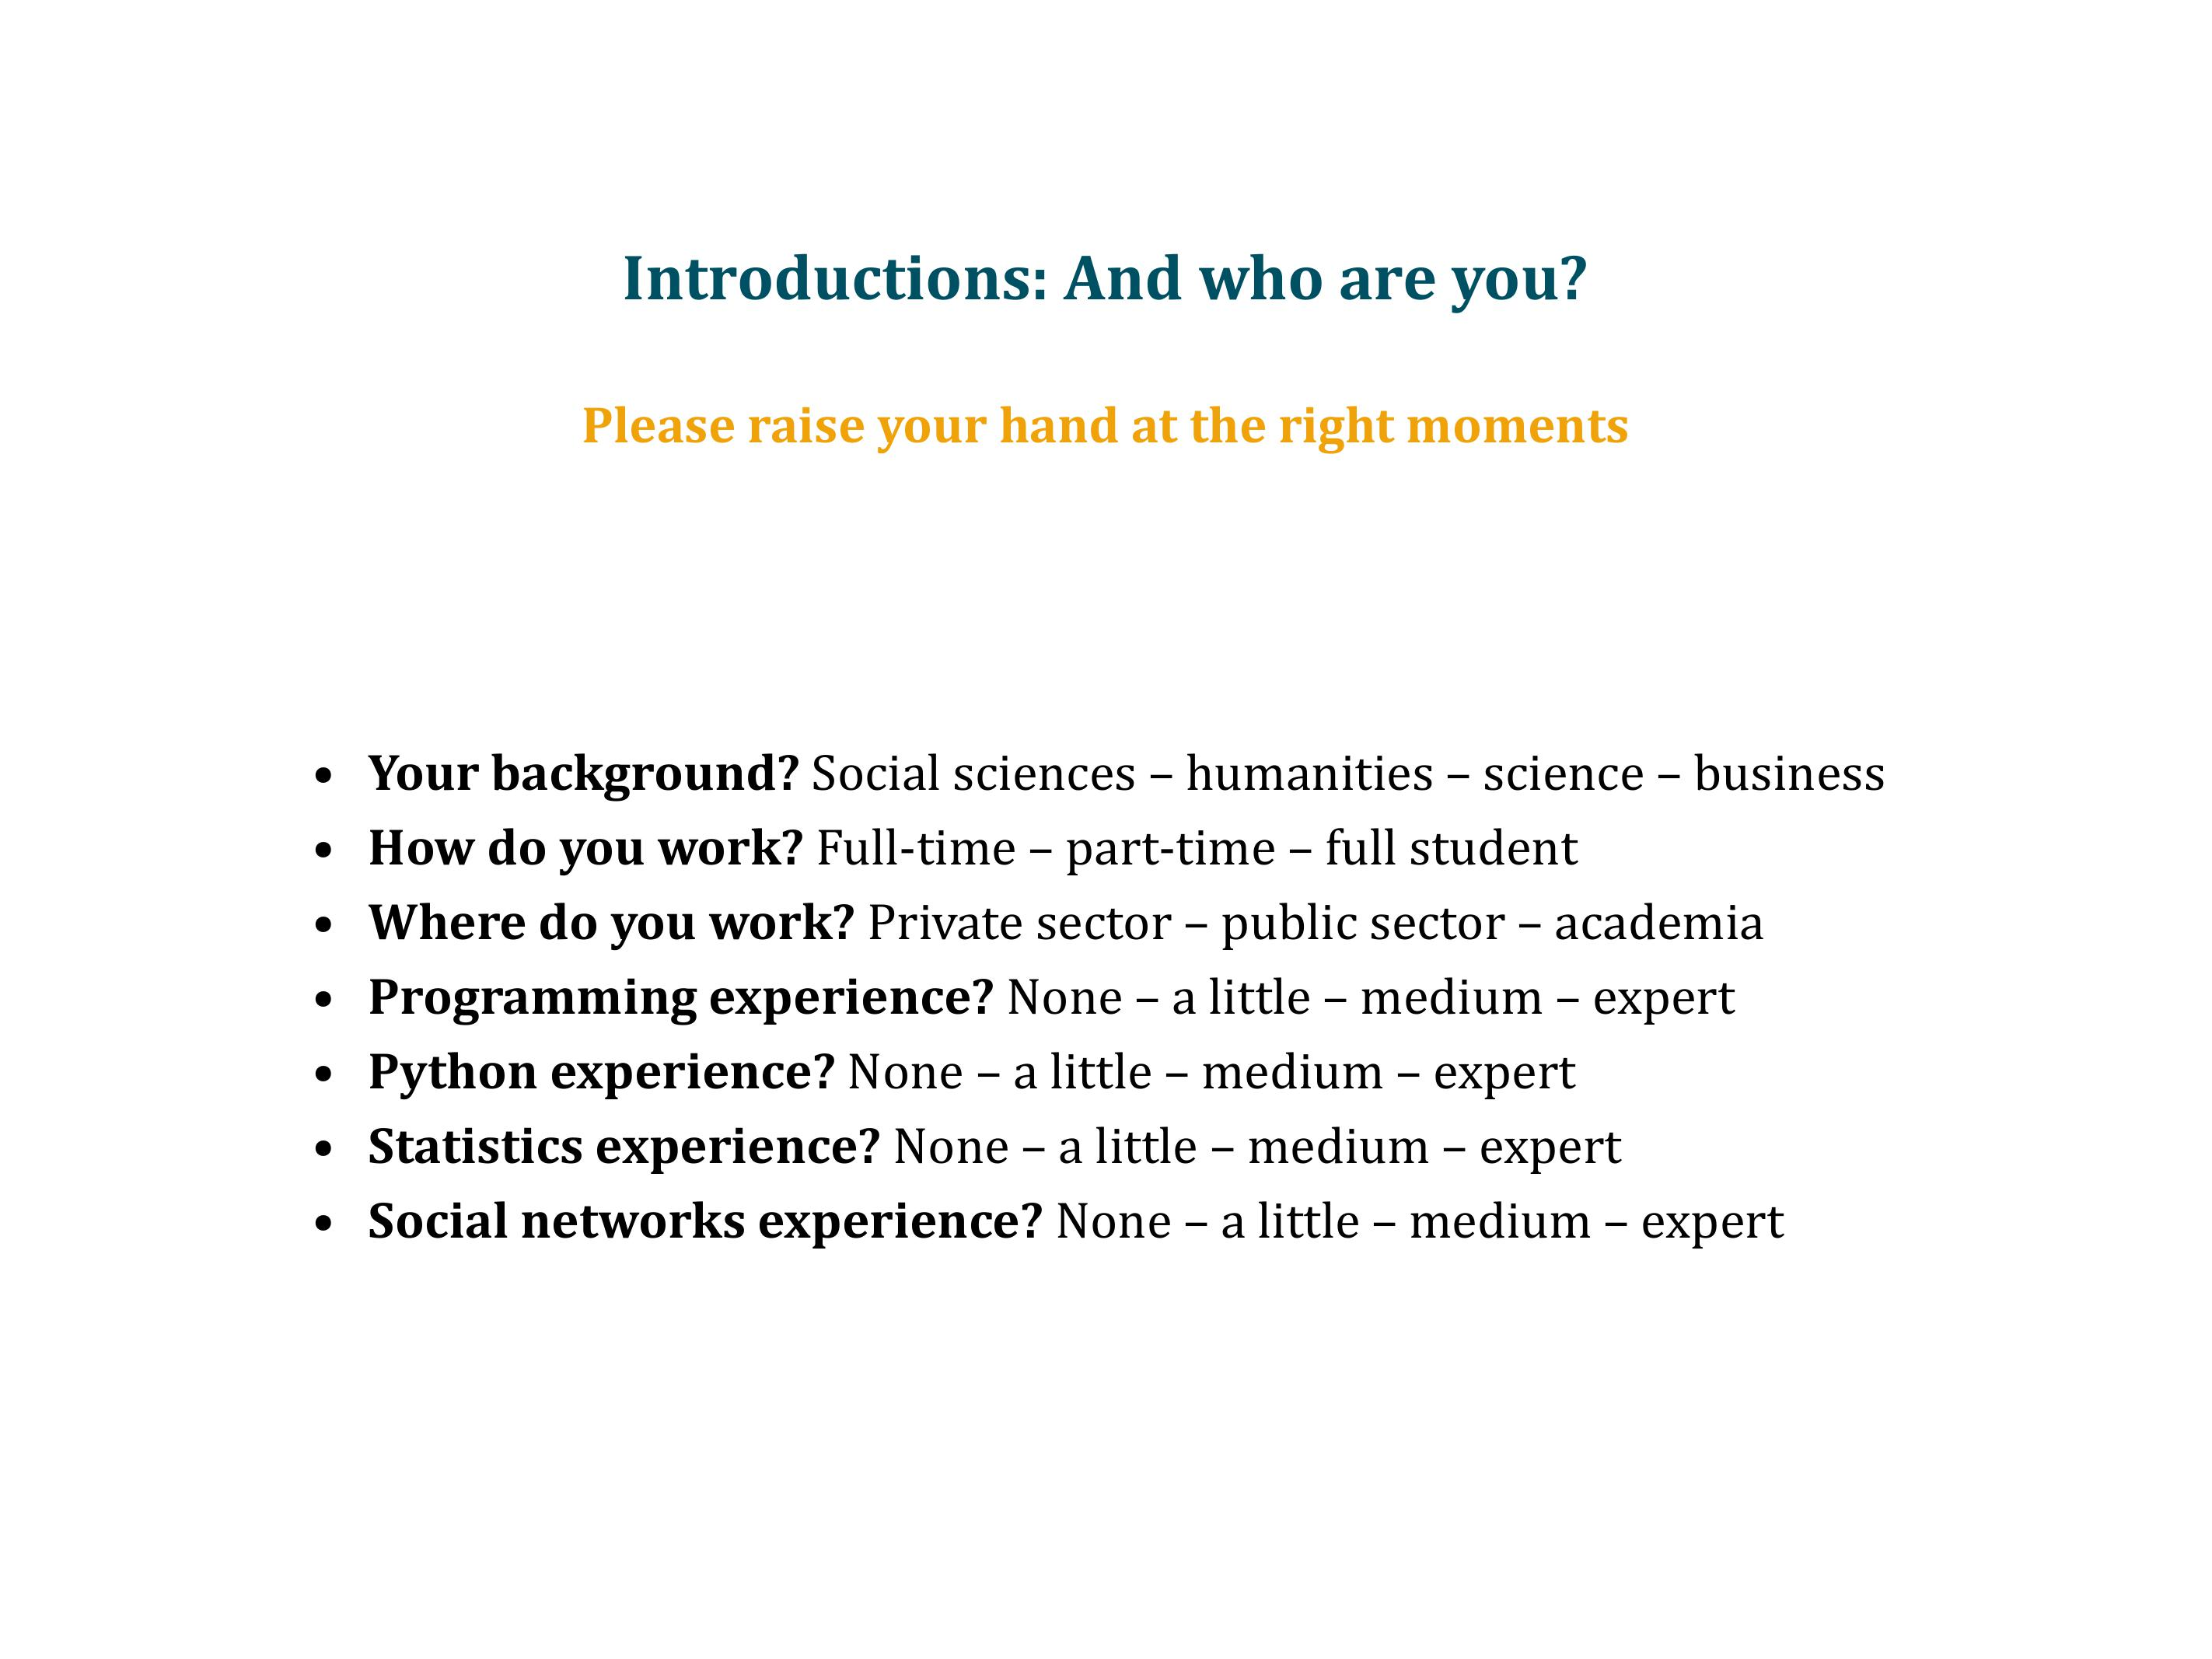Title: (608, 234, 1597, 322)
